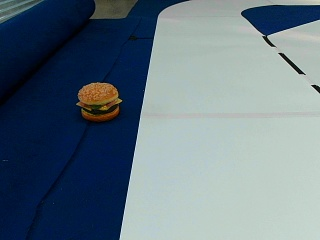burger: (75, 81, 121, 120)
